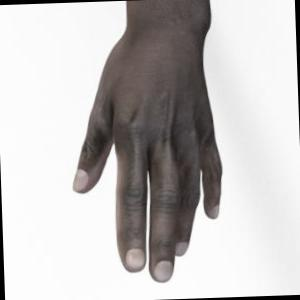paper: (73, 0, 221, 282)
